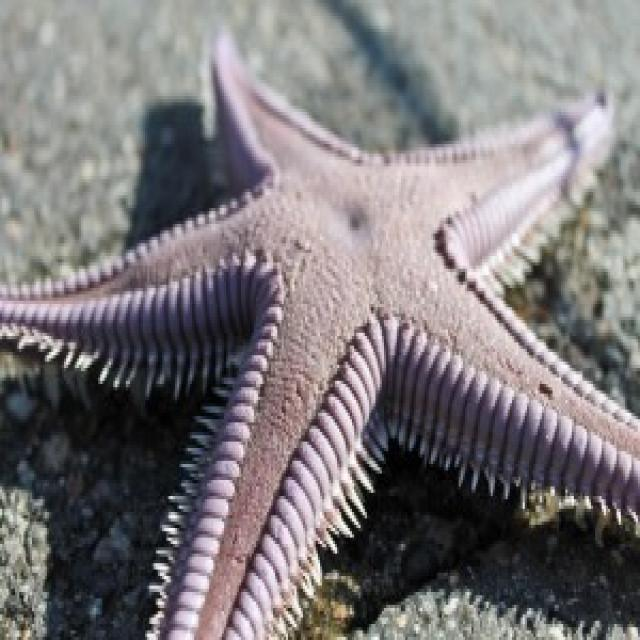Starfish: (0, 16, 632, 634)
